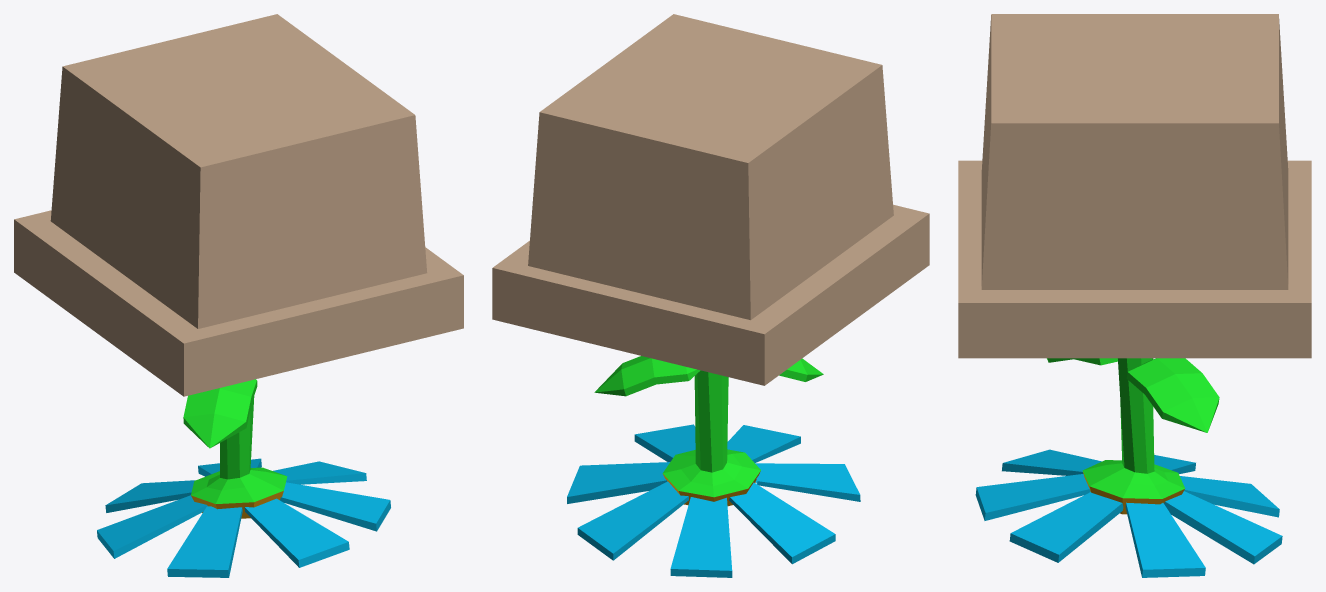
File: 1flower_pot_v2.fbx
3 renders of one model, left to right at view 1: azimuth 30°, elevation 25°; view 2: azimuth 150°, elevation 25°; view 3: azimuth 270°, elevation 25°, orthographic. The views are drawn at different scales.
Parts seen in each view (by area): view 1: Cube.003; view 2: Cube.003; view 3: Cube.003.
Boxes of the visible parts, bbox=[...] form: Cube.003: bbox=[14, 14, 463, 577]; Cube.003: bbox=[492, 14, 929, 577]; Cube.003: bbox=[958, 14, 1311, 577].
Bounding box in the file's own units: 1343 × 2036 × 1410.
